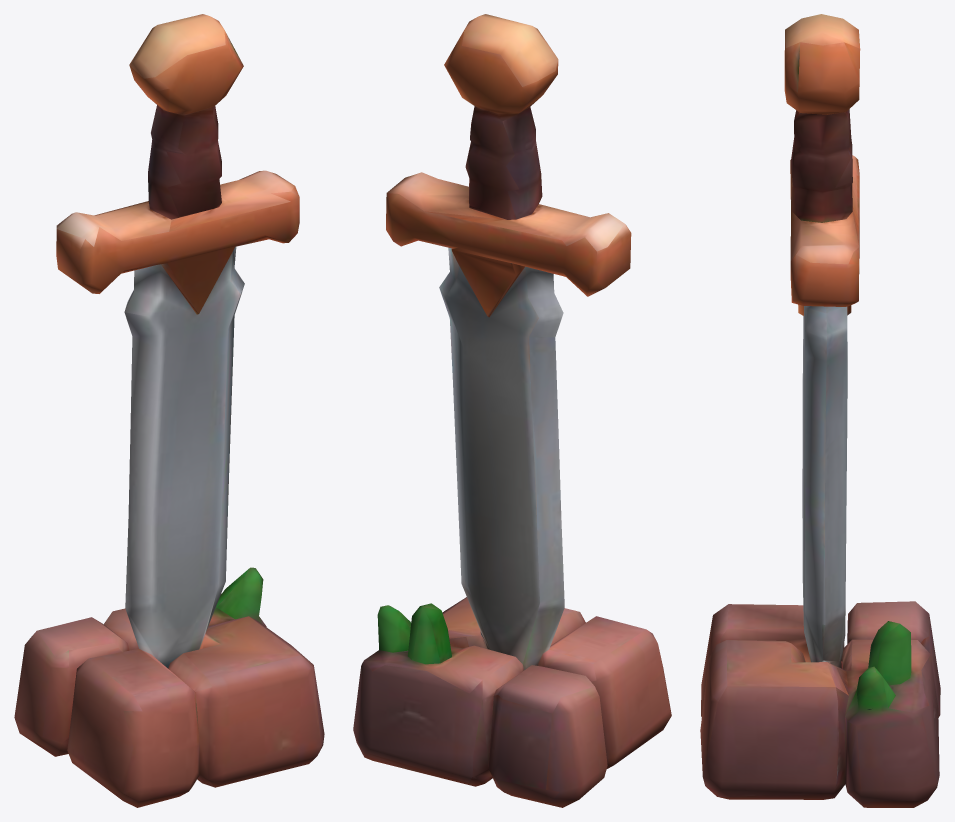
The model's file is lg-silver-sword-display.glb.
The picture shows the model from 3 angles, left to right: view 1: azimuth 30°, elevation 25°; view 2: azimuth 150°, elevation 25°; view 3: azimuth 270°, elevation 25°; orthographic projection. The views are drawn at different scales.
Parts seen in each view (by area): view 1: geometry_0; view 2: geometry_0; view 3: geometry_0.
Boxes of the visible parts, bbox=[...] form: geometry_0: bbox=[14, 14, 324, 807]; geometry_0: bbox=[353, 14, 671, 807]; geometry_0: bbox=[700, 14, 940, 807].
Bounding box in the file's own units: 0.3306 × 1 × 0.2926.
1 material, 1 textured.
